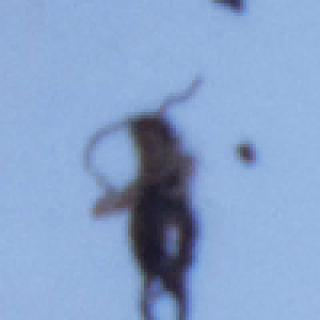earwig: (77, 70, 227, 320)
